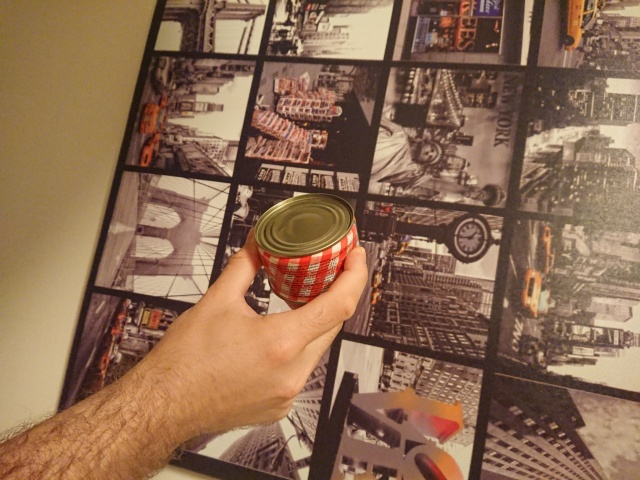Podravka Luncheon Meat 150g: (252, 190, 366, 309)
